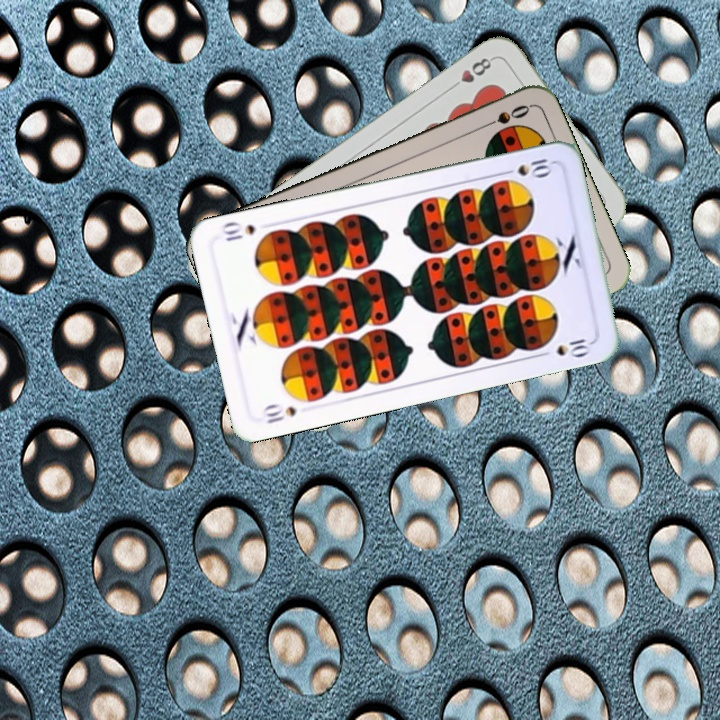H8: (446, 53, 497, 93)
S10: (497, 154, 556, 179), (259, 400, 299, 426)
SO: (476, 100, 533, 132)
